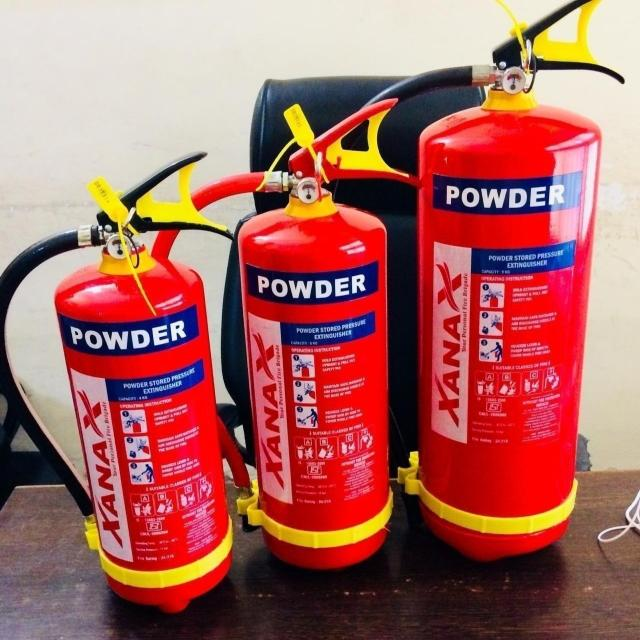fire_extinguisher: (305, 0, 630, 573), (136, 89, 425, 582), (0, 141, 244, 619)
